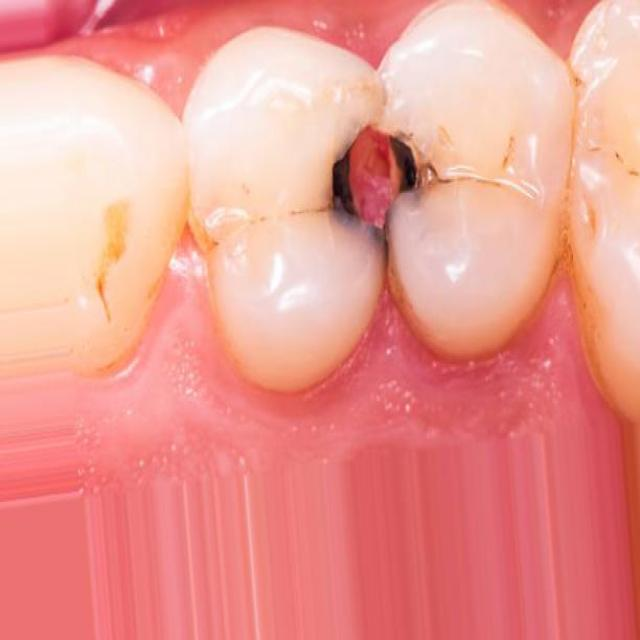caries: (294, 84, 466, 290)
